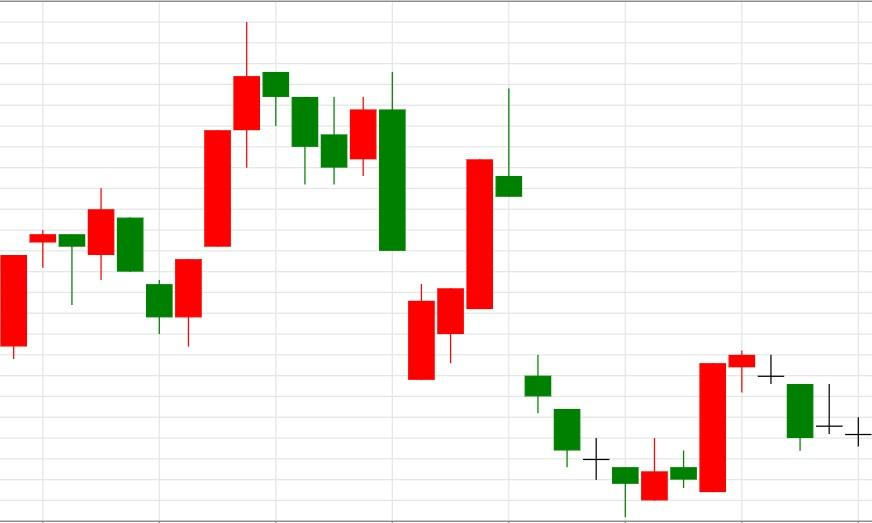bullish_engulfing_rise: (495, 88, 727, 517), (87, 187, 203, 347)
